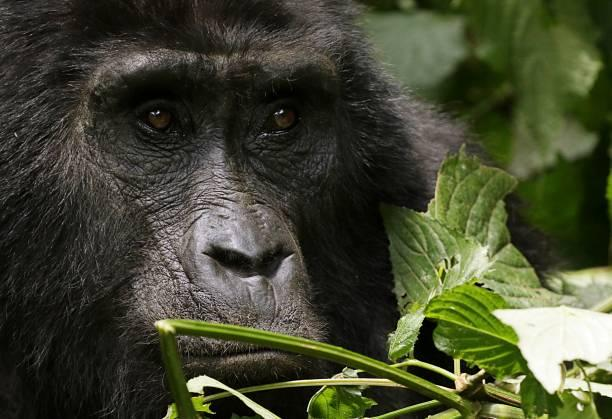goriile_montagne: (2, 5, 424, 409)
